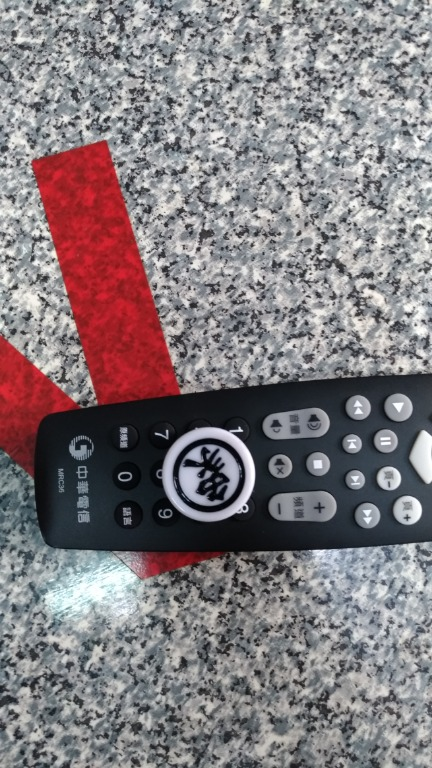b-elephant: (145, 419, 274, 533)
